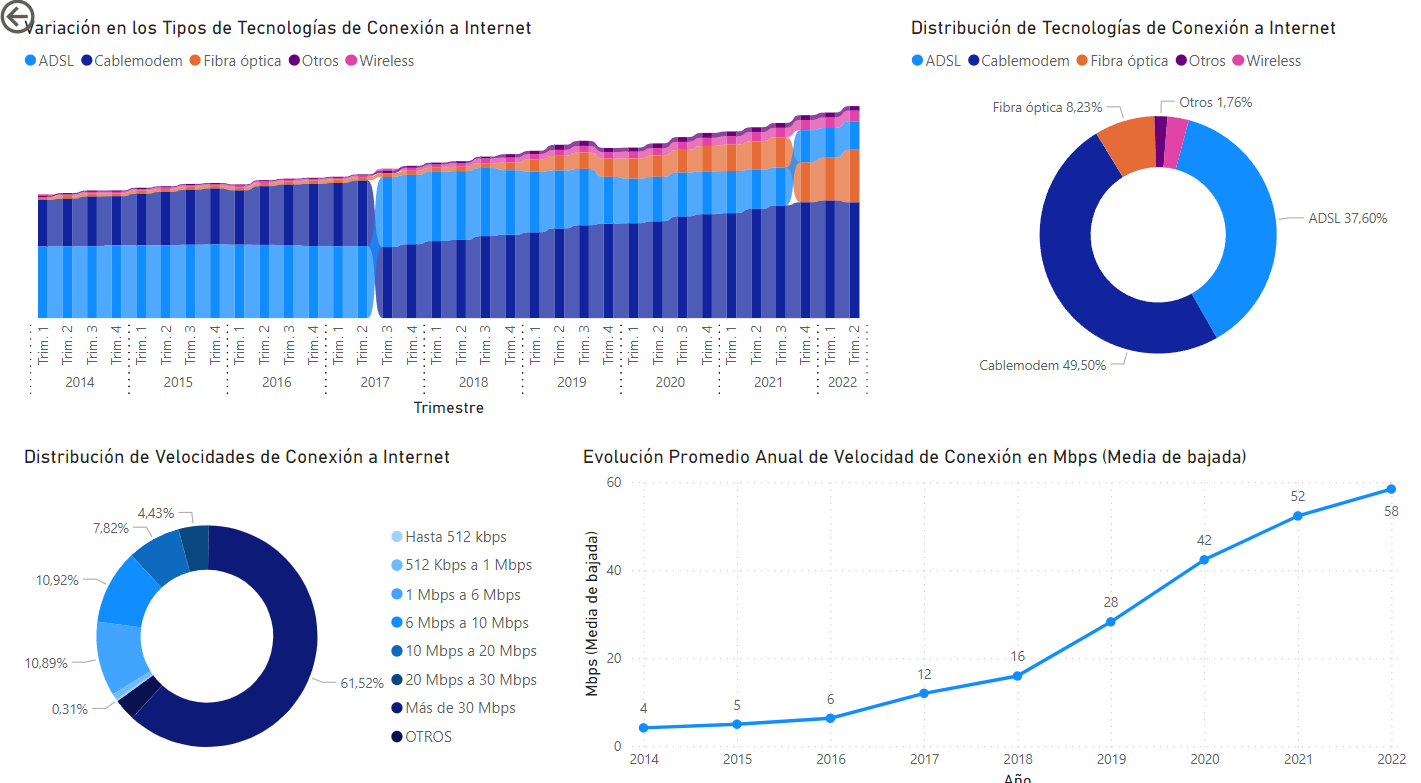

What the dashboard file says about the page in this screenshot:
{"tool":"powerbi","page":{"name":"Tecnologias y Velocidad","canvas":[1280,720],"ordinal":1},"visuals":[{"type":"ribbonChart","title":"Variación en los Tipos de Tecnologías  de Conexión a Internet","fields":{"Category":["Internet_Accesos-por-tecnologia.Fecha.Variación.Jerarquía de fechas.Año","Internet_Accesos-por-tecnologia.Fecha.Variación.Jerarquía de fechas.Trimestre"],"Y":["Sum(Internet_Accesos-por-tecnologia.ADSL)","Sum(Internet_Accesos-por-tecnologia.Cablemodem)","Sum(Internet_Accesos-por-tecnologia.Fibra óptica)","Sum(Internet_Accesos-por-tecnologia.Otros)","Sum(Internet_Accesos-por-tecnologia.Wireless)"]},"box":[20.6,19.6,759.8,359.8],"z":0},{"type":"lineChart","title":"Evolución Promedio Anual de Velocidad de Conexión en Mbps (Media de bajada)","fields":{"Y":["Max(historico_velocidad_internet.Mbps (Media de bajada))"],"Category":["historico_velocidad_internet.Fecha.Variación.Jerarquía de fechas.Año"]},"box":[516.5,400,740.2,310.3],"z":1000},{"type":"donutChart","title":"Distribución de Tecnologías de Conexión a Internet","fields":{"Y":["Sum(Internet_Accesos-por-tecnologia.ADSL)","Sum(Internet_Accesos-por-tecnologia.Cablemodem)","Sum(Internet_Accesos-por-tecnologia.Fibra óptica)","Sum(Internet_Accesos-por-tecnologia.Otros)","Sum(Internet_Accesos-por-tecnologia.Wireless)"]},"box":[807.2,19.6,449.5,340.2],"z":2000},{"type":"donutChart","title":"Distribución de Velocidades de Conexión a Internet","fields":{"Y":["Sum(Internet_Accesos-por-velocidad (1).Hasta 512 kbps)","Sum(Internet_Accesos-por-velocidad (1).Entre 512 Kbps y 1 Mbps)","Sum(Internet_Accesos-por-velocidad (1).Entre 1 Mbps y 6 Mbps)","Max(Internet_Accesos-por-velocidad (1).Entre 6 Mbps y 10 Mbps)","Sum(Internet_Accesos-por-velocidad (1).Entre 10 Mbps y 20 Mbps)","Max(Internet_Accesos-por-velocidad (1).Entre 20 Mbps y 30 Mbps)","Sum(Internet_Accesos-por-velocidad (1).Más de 30 Mbps)","Sum(Internet_Accesos-por-velocidad (1).OTROS)"]},"box":[20.6,400,474.2,319.6],"z":3000},{"type":"actionButton","box":[0,0,100,40],"z":4000}]}

Visuals, with their boxes in screenshot pixels (x1, y1, x2, y2), scaled from the page's 1280x720 canvas onto the 1421x783 screenshot:
"Variación en los Tipos de Tecnologías  de Conexión a Internet" ribbonChart: 23/21/866/413
"Evolución Promedio Anual de Velocidad de Conexión en Mbps (Media de bajada)" lineChart: 573/435/1395/772
"Distribución de Tecnologías de Conexión a Internet" donutChart: 896/21/1395/391
"Distribución de Velocidades de Conexión a Internet" donutChart: 23/435/549/782
actionButton: 0/0/111/44
